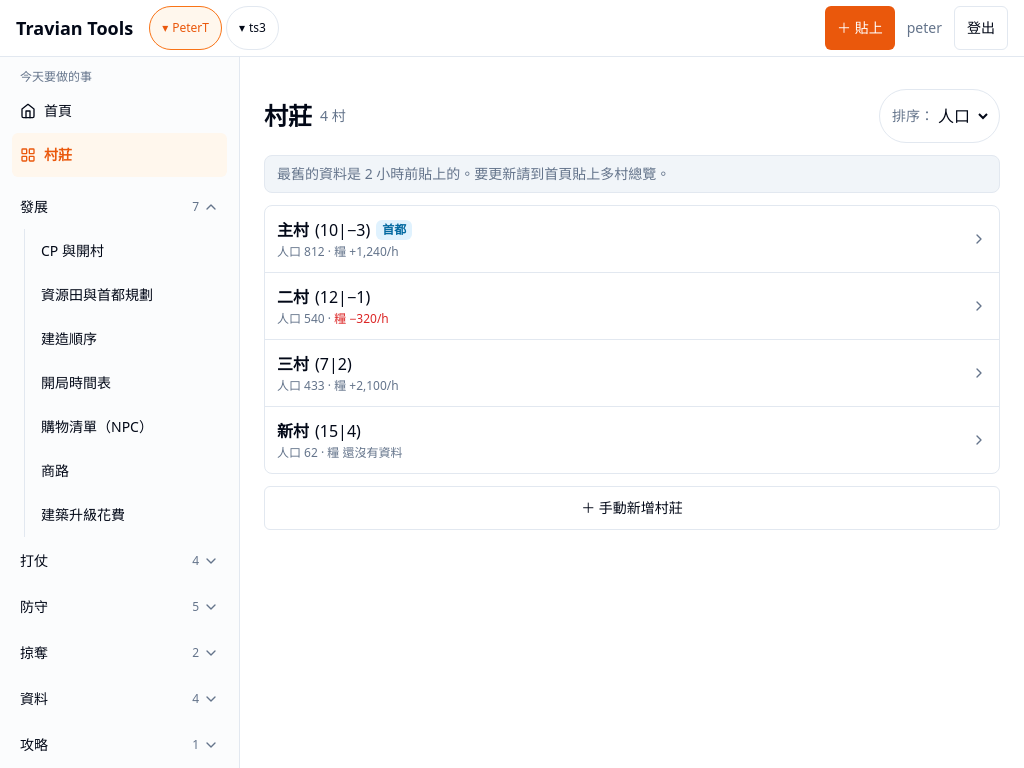
Test case: village list (P0-02 slice 2) › only asks for the selected active account, and follows the switcher
expect the number of list items with test id "village-row" is 4: met, box left=265, top=206, right=999, bottom=272; left=265, top=272, right=999, bottom=339; left=265, top=339, right=999, bottom=406; left=265, top=406, right=999, bottom=473
Click the button with aria-label "目前世界：ts3".
click(252, 28)  # box left=226, top=6, right=279, bottom=50
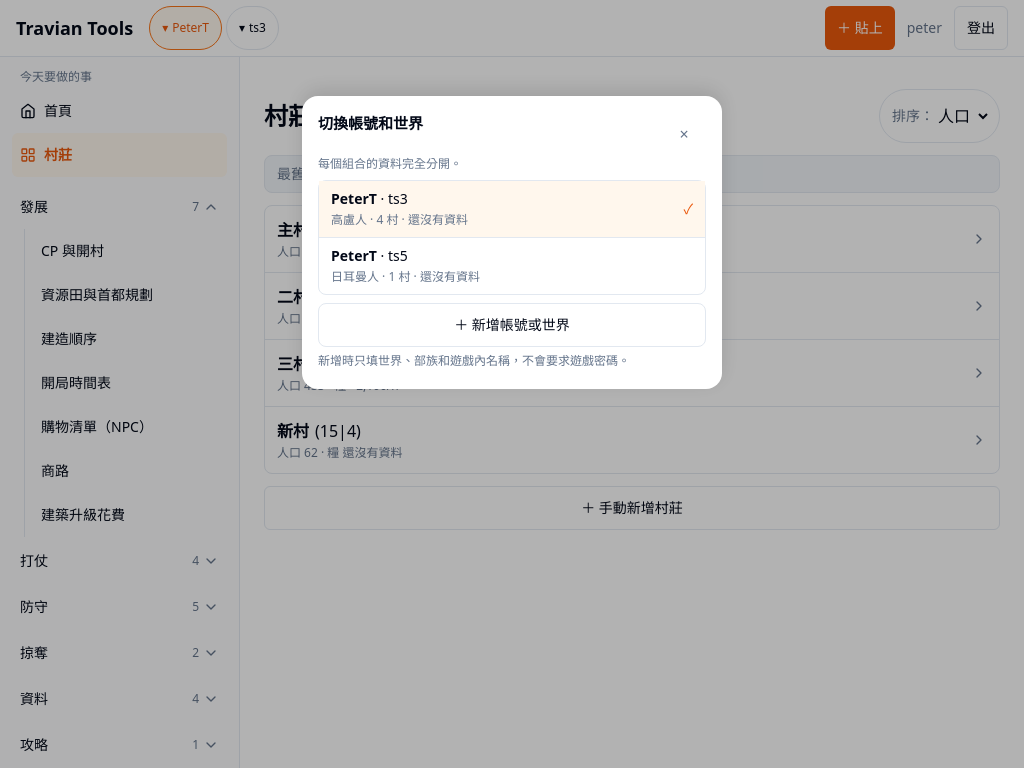
expect the dialog "切換帳號和世界" does not show "舊號": met, box left=302, top=96, right=722, bottom=389
Click the text "日耳曼人 · 1 村 · 還沒有資料".
click(405, 276)  # box left=331, top=268, right=480, bottom=285
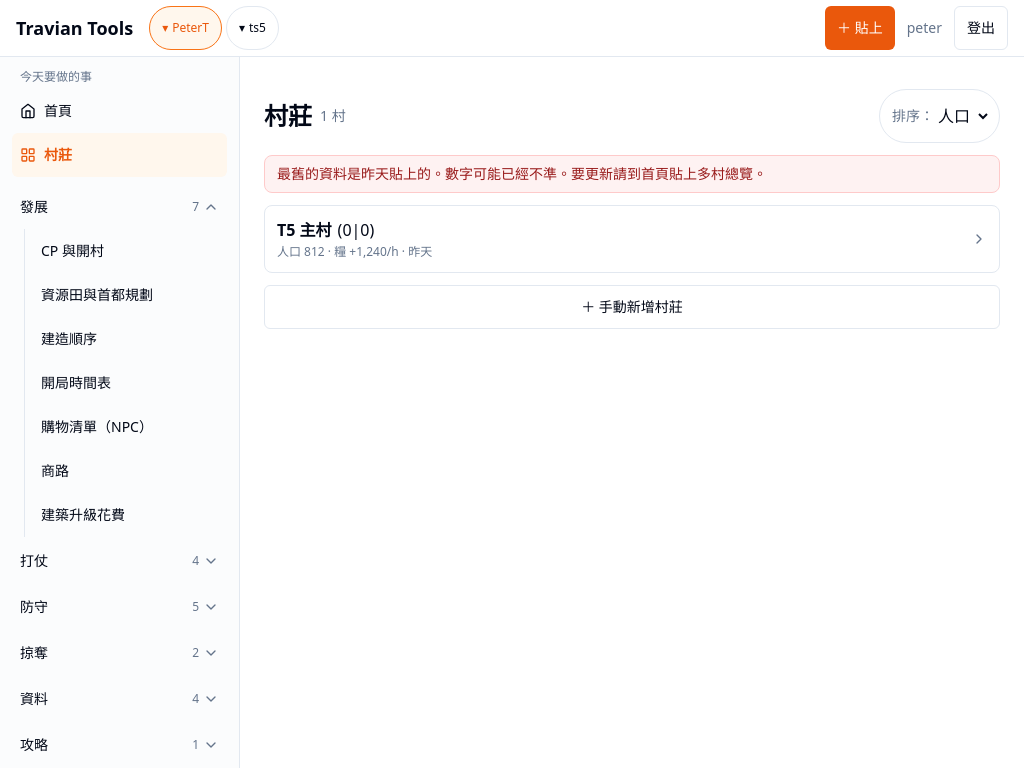
expect the number of list items with test id "village-row" is 1: met, box left=265, top=206, right=999, bottom=272
expect the list item with test id "village-row" shows "T5 主村": met, box left=265, top=206, right=999, bottom=272
expect the link "二村" is gone: met
